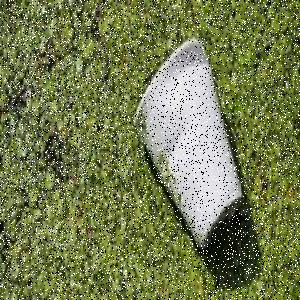Cup: (134, 38, 244, 252)
